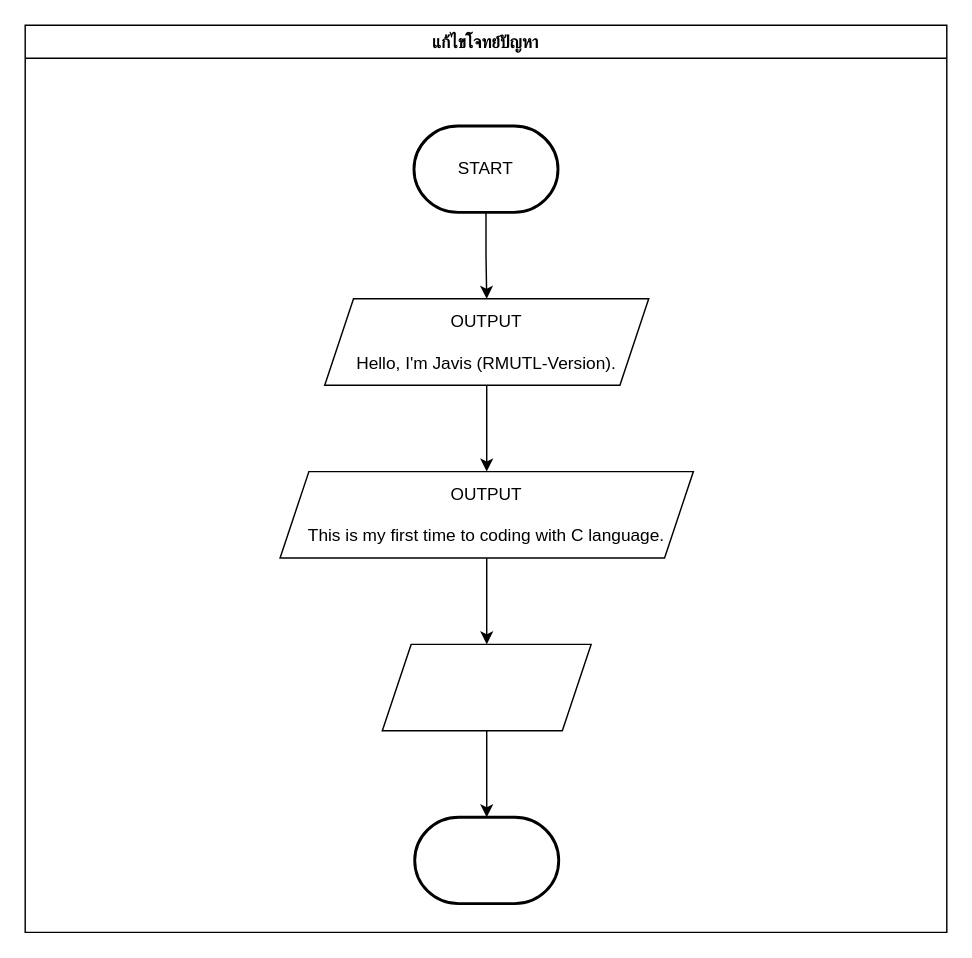
Image size: 972x958. Some labels were removed from this diagram. Here are the shapes that lost their labels. From the top down, the centre of each, then its label:
At point (486, 687): "OUTPUT Today is my birthday.".
At point (486, 859): "END".
